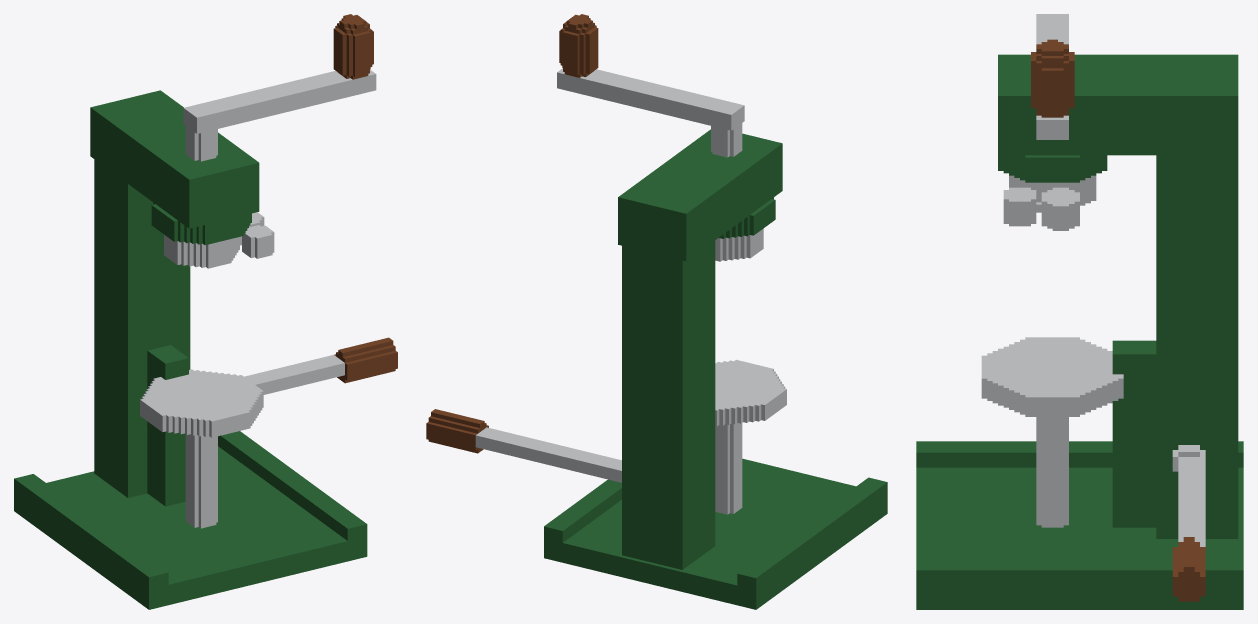
The model's file is can_sealer.glb.
The picture shows the model from 3 angles, left to right: view 1: azimuth 30°, elevation 25°; view 2: azimuth 150°, elevation 25°; view 3: azimuth 270°, elevation 25°; orthographic projection. The views are drawn at different scales.
Parts seen in each view (by area): view 1: can_sealer:compound; view 2: can_sealer:compound; view 3: can_sealer:compound.
Boxes of the visible parts, <box> form: can_sealer:compound: <box>14,14,397,609</box>; can_sealer:compound: <box>426,14,887,609</box>; can_sealer:compound: <box>916,14,1243,609</box>.
Size of the model in its own units: 0.364 by 0.476 by 0.24.
